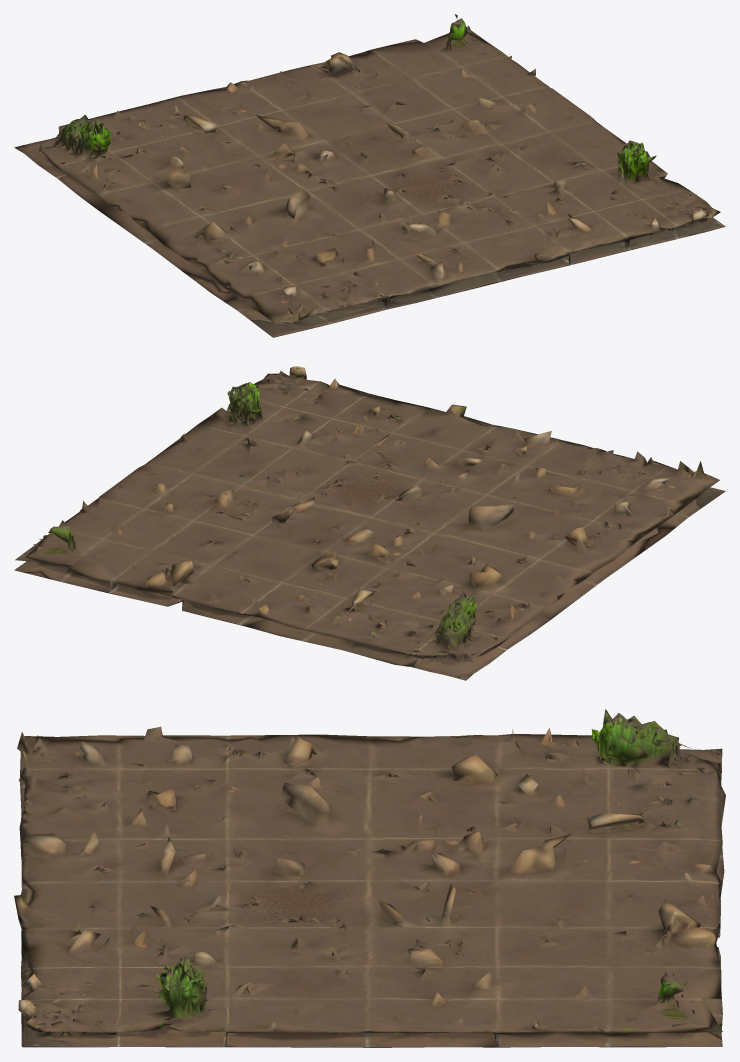
The model's file is ground.glb.
3 renders of one model, top to bottom at view 1: azimuth 30°, elevation 25°; view 2: azimuth 150°, elevation 25°; view 3: azimuth 270°, elevation 25°, orthographic. The views are drawn at different scales.
Bounding box in the file's own units: 2 × 0.215 × 2.01.
1 material, 1 textured.
